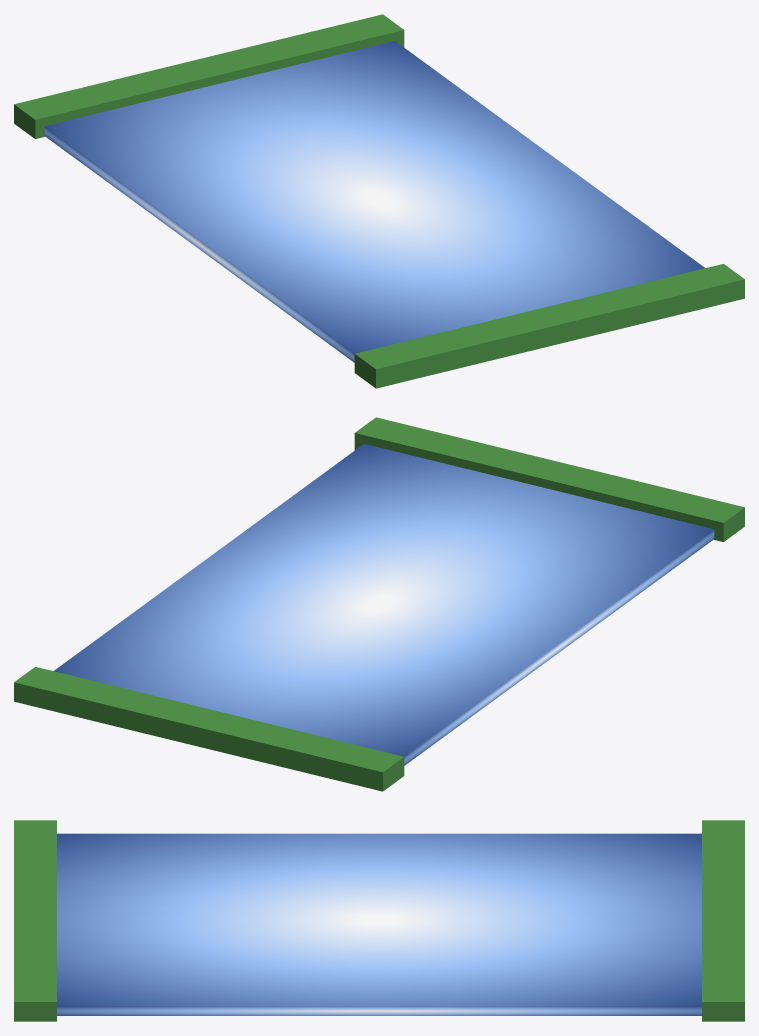
Rendered from gap.glb.
3 views of the same model, one above another, from view 1: azimuth 30°, elevation 25°; view 2: azimuth 150°, elevation 25°; view 3: azimuth 270°, elevation 25° (orthographic).
Parts seen in each view (by area): view 1: gardens gap; view 2: gardens gap; view 3: gardens gap.
Part boxes in pixels (x1,y1,x2,y2): gardens gap: (14, 14, 744, 388); gardens gap: (14, 417, 744, 791); gardens gap: (14, 820, 744, 1021).
Bounding box in the file's own units: 2 × 0.1 × 3.4.
Materials: 2 (1 with a texture image).
